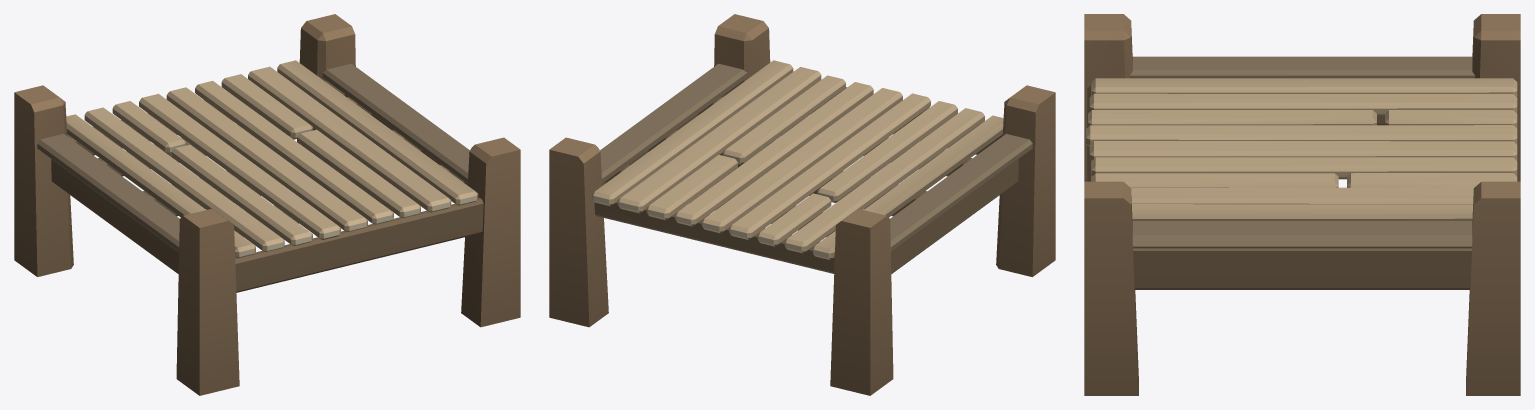
Rendered from pcorner.glb.
3 views of the same model, side by side, from view 1: azimuth 30°, elevation 25°; view 2: azimuth 150°, elevation 25°; view 3: azimuth 270°, elevation 25° (orthographic). The views are drawn at different scales.
Visible parts, largest first — view 1: pcorner; view 2: pcorner; view 3: pcorner.
Part boxes in pixels (bbox=[...]): pcorner: bbox=[14, 14, 520, 395]; pcorner: bbox=[549, 14, 1055, 395]; pcorner: bbox=[1084, 14, 1520, 395].
Size of the model in its own units: 3 by 1.5 by 3.
